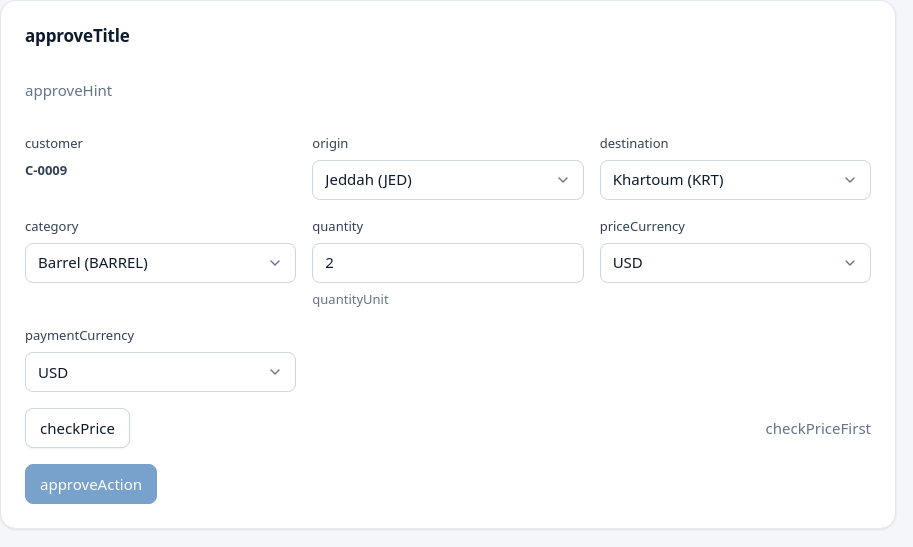
BotRequestApprove › approves only with the price checked for the inputs as they are
The width and height of the screenshot is (913, 547).
Check: the submit button is disabled, box top-left (25, 464), bottom-right (157, 504)
Click the button "checkPrice": (78, 428) top-left (25, 408), bottom-right (130, 448)
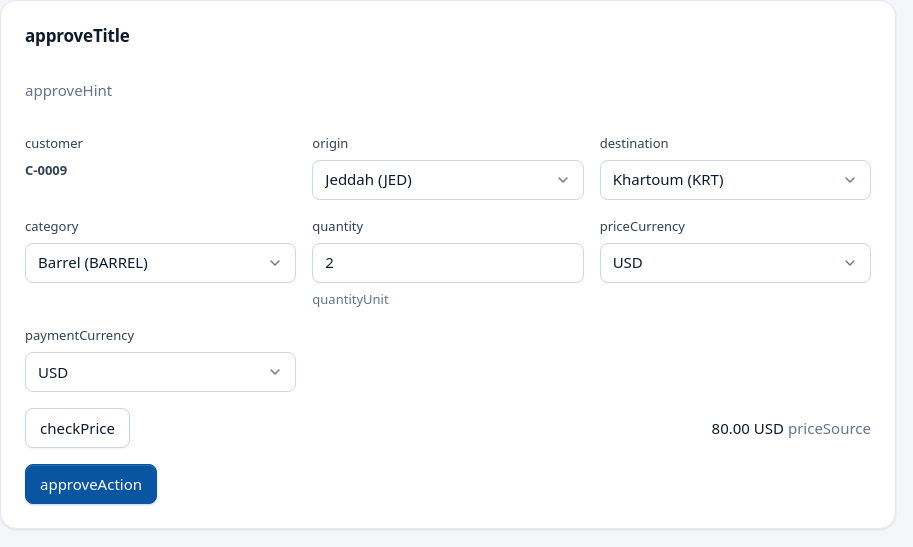
Check: the text "80.00 USD" is shown, box top-left (712, 418), bottom-right (784, 438)
Check: the button "approveAction" is enabled, box top-left (25, 464), bottom-right (157, 504)
Select "Khartoum (KRT)" in the dropdown labelled "origin": (448, 180) top-left (312, 160), bottom-right (584, 200)
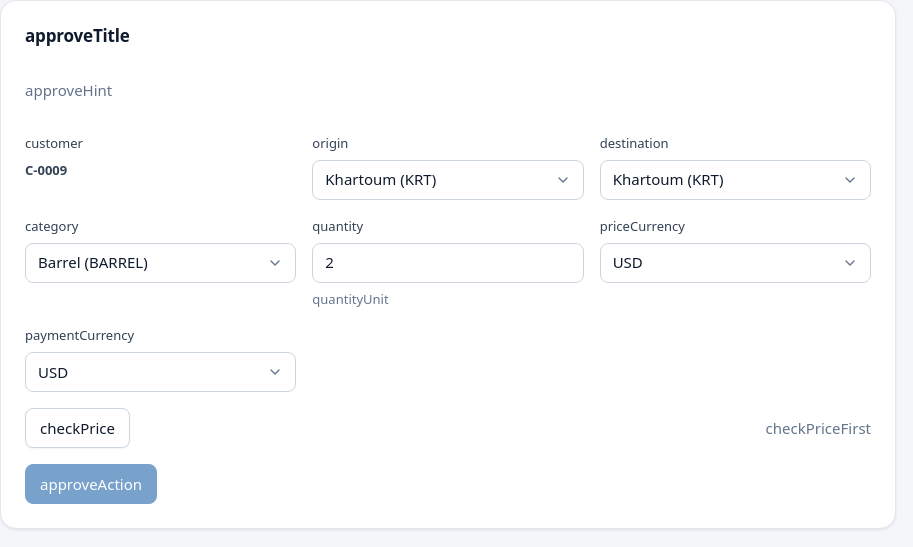
Check: the button "approveAction" is disabled, box top-left (25, 464), bottom-right (157, 504)
